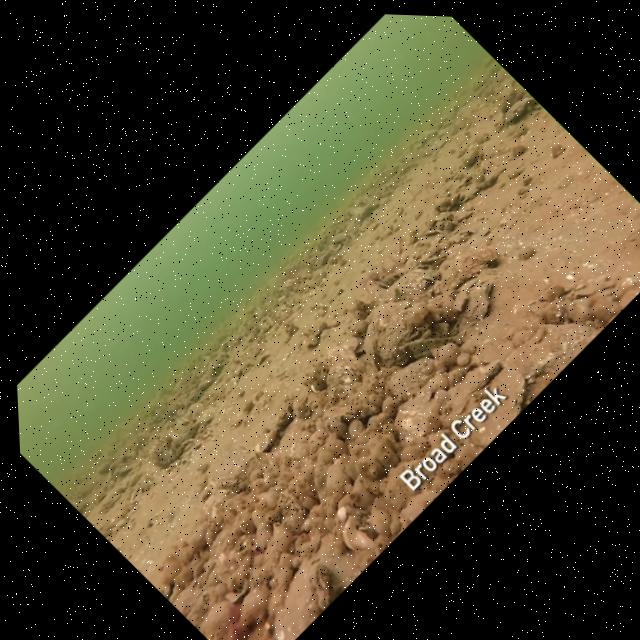Oyster-Closed: (406, 119, 446, 159)
Oyster-Indeterminate: (447, 358, 545, 456), (274, 555, 352, 632), (430, 233, 505, 308), (379, 380, 453, 454), (378, 341, 447, 410), (398, 310, 467, 378), (200, 437, 267, 503), (221, 573, 282, 633), (308, 353, 368, 412), (264, 410, 323, 469), (386, 260, 442, 316), (450, 274, 506, 329), (190, 478, 242, 530), (318, 336, 370, 388), (330, 509, 381, 560), (192, 591, 243, 640), (496, 88, 545, 136), (143, 428, 191, 476), (258, 394, 305, 441), (557, 287, 600, 330), (531, 295, 573, 337), (243, 424, 285, 465), (583, 289, 624, 329), (451, 136, 492, 176), (487, 78, 526, 117), (178, 588, 217, 626), (347, 191, 386, 229), (605, 276, 640, 317), (442, 218, 480, 255), (220, 571, 257, 608), (511, 234, 547, 270), (110, 448, 145, 484), (454, 177, 489, 211), (585, 274, 619, 308), (90, 449, 123, 481), (301, 263, 333, 294), (275, 267, 307, 298), (164, 409, 195, 440), (604, 271, 635, 302), (324, 222, 354, 251), (460, 162, 490, 191), (418, 217, 447, 246), (445, 200, 474, 229), (431, 190, 458, 217), (204, 356, 231, 383), (221, 373, 247, 399), (546, 277, 572, 303), (430, 202, 456, 228), (506, 137, 532, 162), (221, 359, 246, 384), (236, 349, 261, 374), (154, 576, 178, 600), (312, 246, 336, 270), (547, 138, 571, 161), (432, 213, 455, 236), (176, 423, 197, 445), (184, 384, 205, 405), (195, 374, 216, 395), (89, 445, 109, 465), (155, 381, 174, 400), (226, 371, 242, 388)
Oyster-Open: (346, 291, 433, 377), (186, 408, 217, 438), (180, 434, 196, 451)
